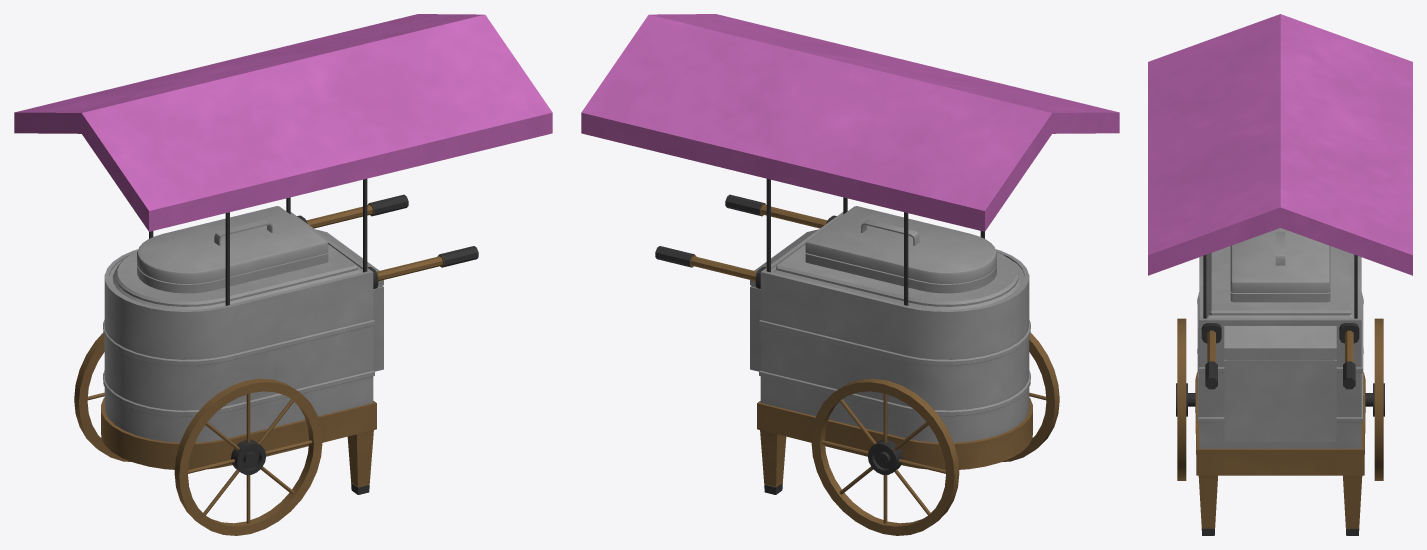
Rendered from ice_cream_cart.fbx.
The picture shows the model from 3 angles, left to right: view 1: azimuth 30°, elevation 25°; view 2: azimuth 150°, elevation 25°; view 3: azimuth 270°, elevation 25°; orthographic projection.
Parts seen in each view (by area): view 1: cart; view 2: cart; view 3: cart.
Boxes of the visible parts, bbox=[...] form: cart: bbox=[14, 14, 552, 535]; cart: bbox=[581, 14, 1119, 535]; cart: bbox=[1148, 14, 1412, 535].
Size of the model in its own units: 563 by 548 by 326.
Materials: 1 (1 with a texture image).
